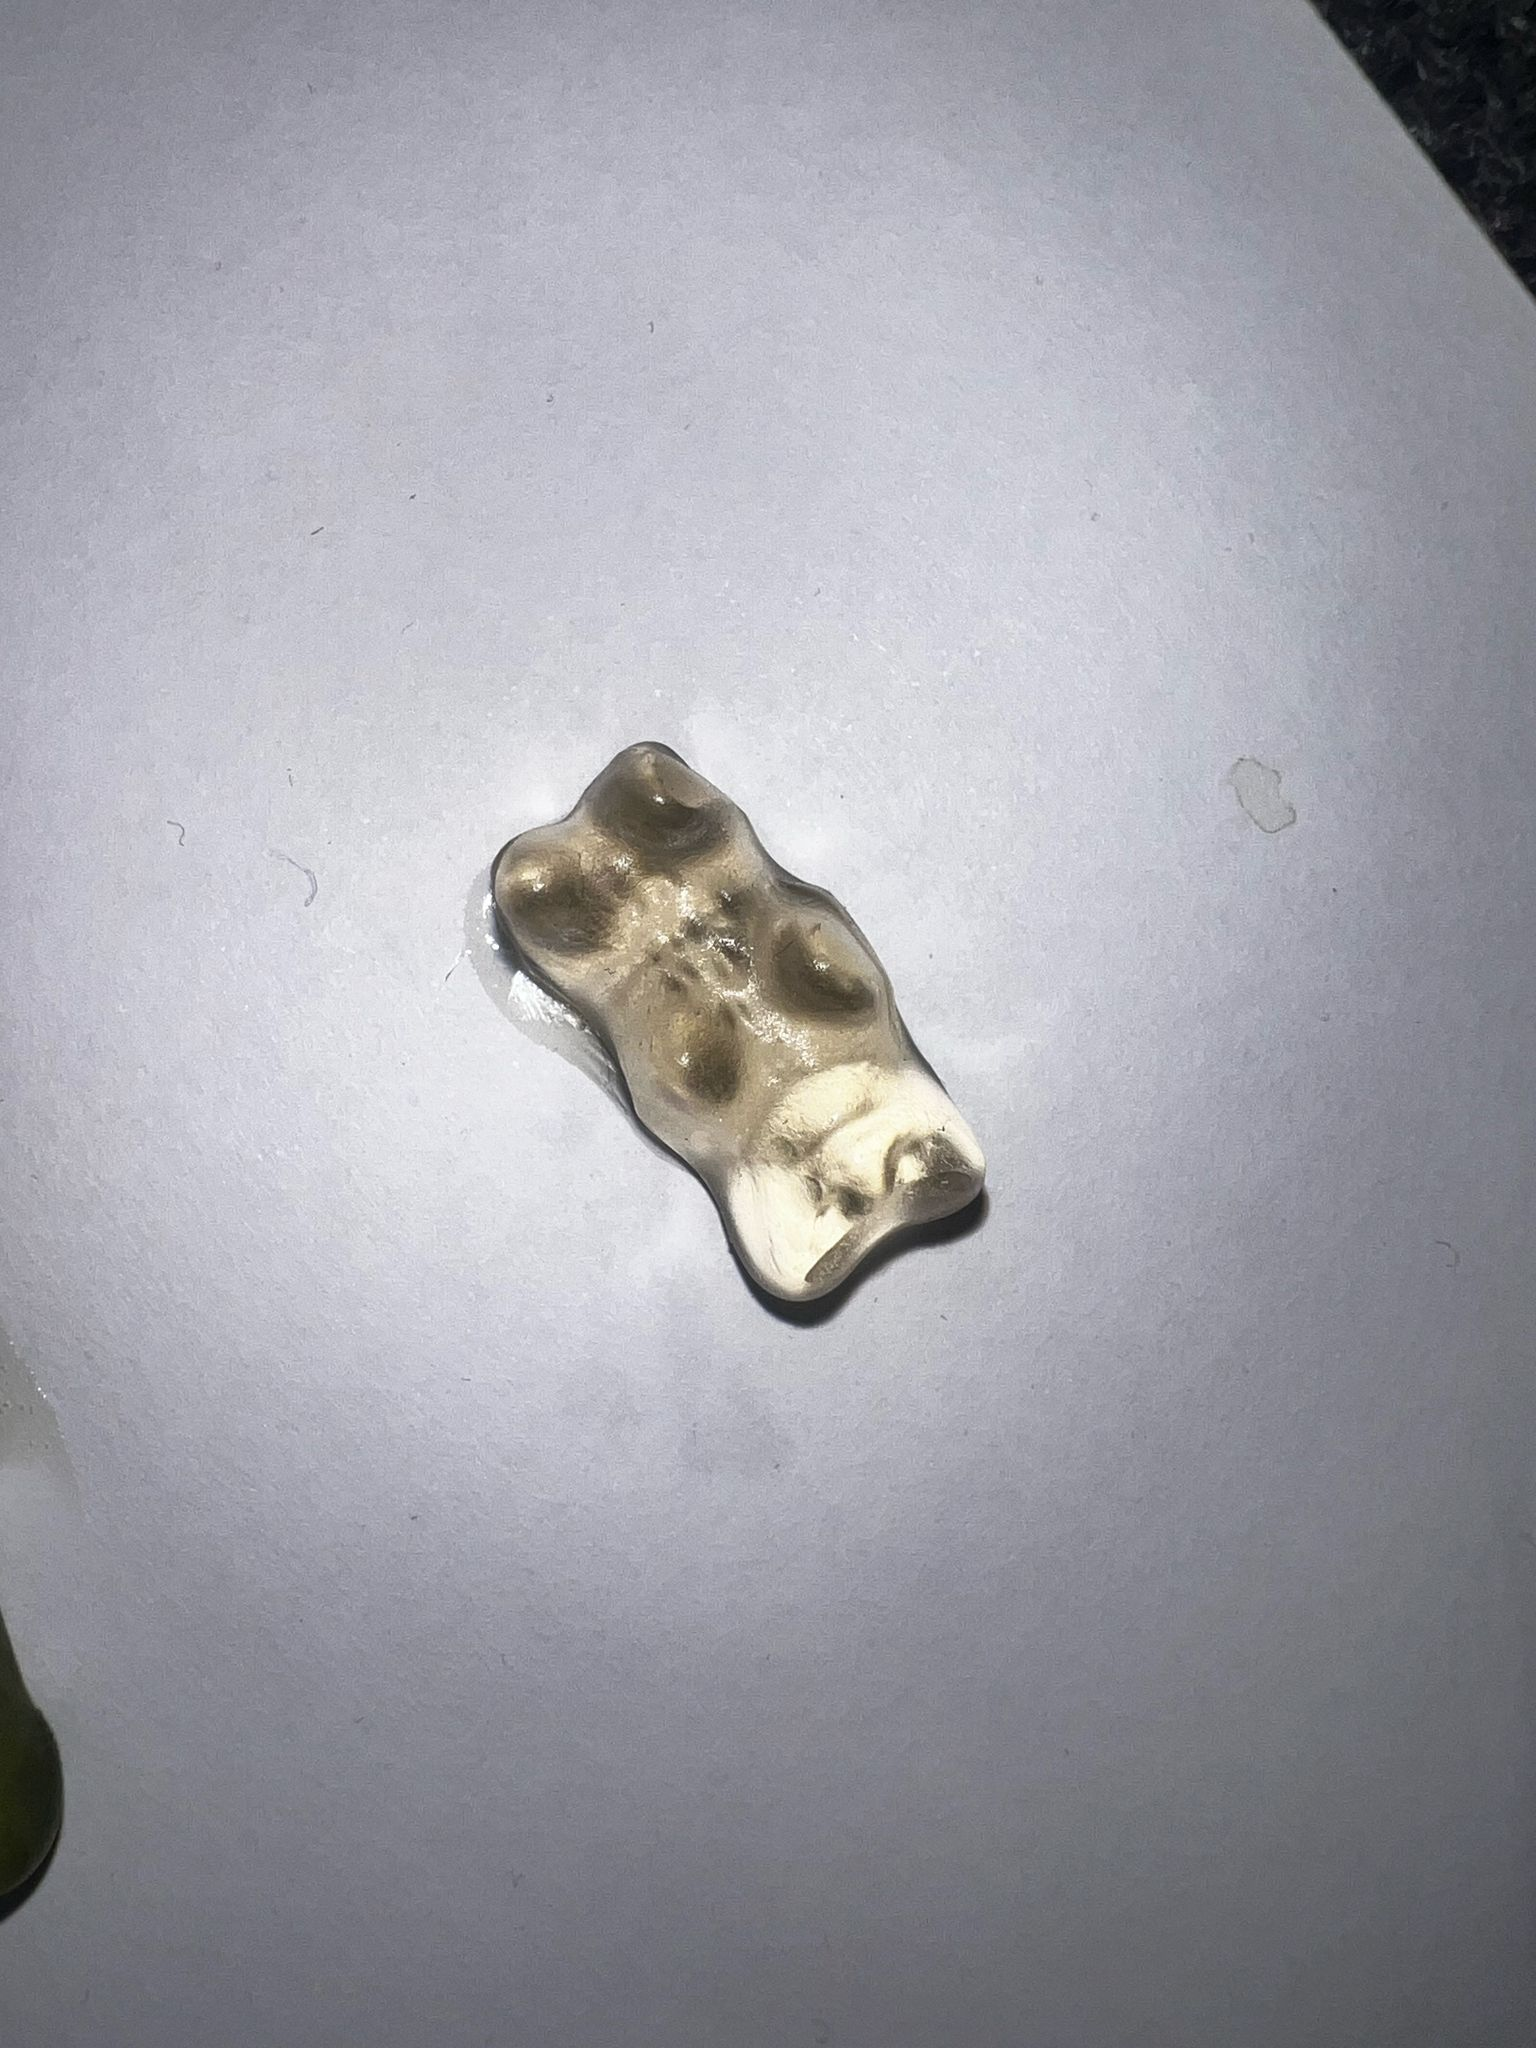gummybear: (473, 724, 1007, 1338)
